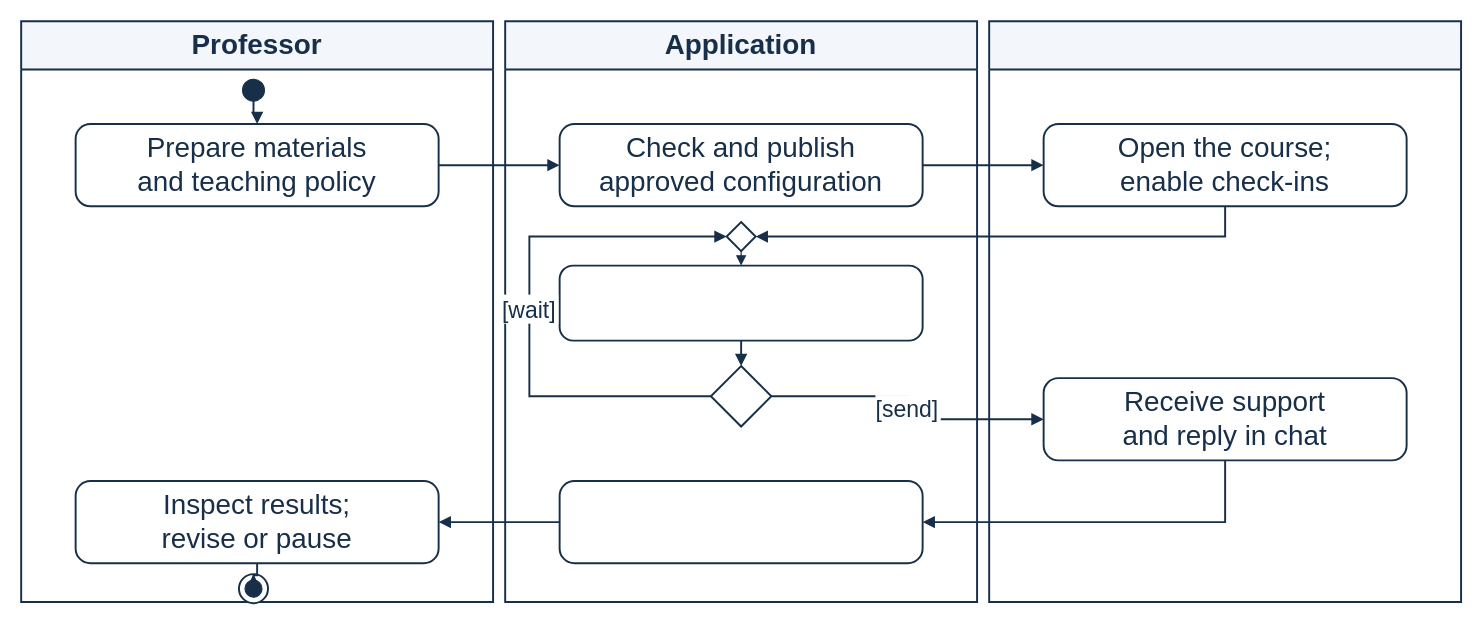
Image size: 1483x626. Some labels were removed from this diagram. The box of each missing label's shape, as (x1, y1, x2, y2) in pixels:
Check activity, timing and permission: (558, 264, 923, 341)
Save dialogue and observations: (558, 479, 923, 564)
Student: (988, 20, 1461, 602)
